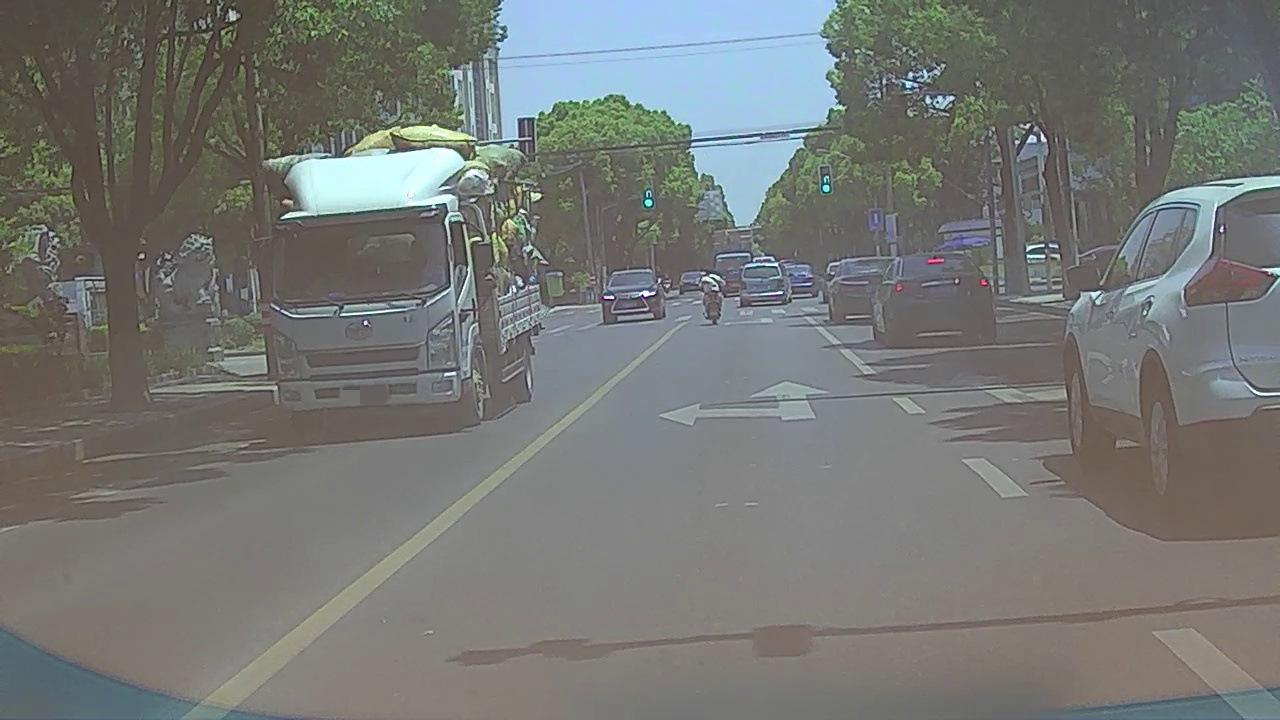traffic_light: (643, 178, 654, 209), (821, 167, 831, 194)
